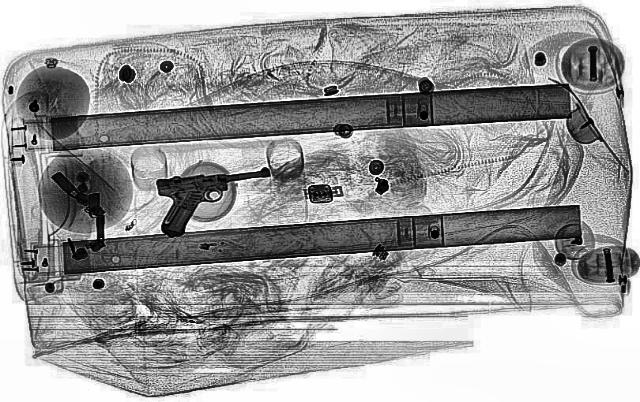Gun: (140, 164, 292, 238)
